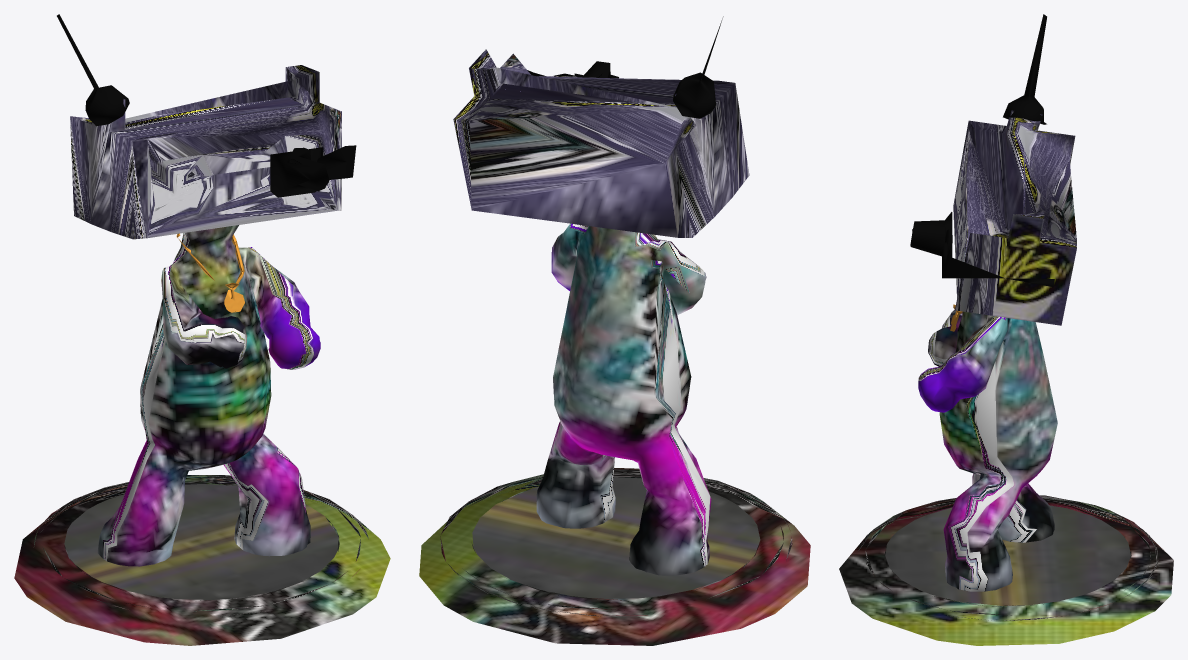
The picture shows the model from 3 angles, left to right: view 1: azimuth 30°, elevation 25°; view 2: azimuth 150°, elevation 25°; view 3: azimuth 270°, elevation 25°; orthographic projection. The views are drawn at different scales.
Bounding box in the file's own units: 1.43 × 2.39 × 1.43.
Materials: 6 (5 with a texture image).
